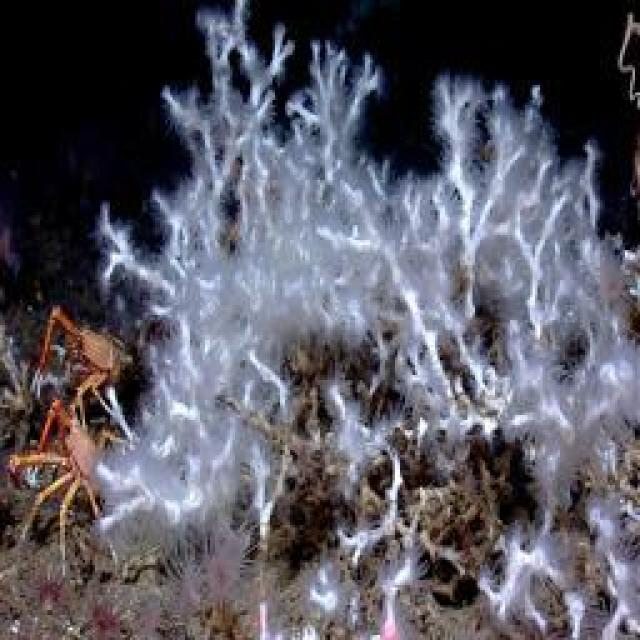reefs: (94, 0, 638, 638), (7, 395, 124, 572), (36, 306, 136, 424)
